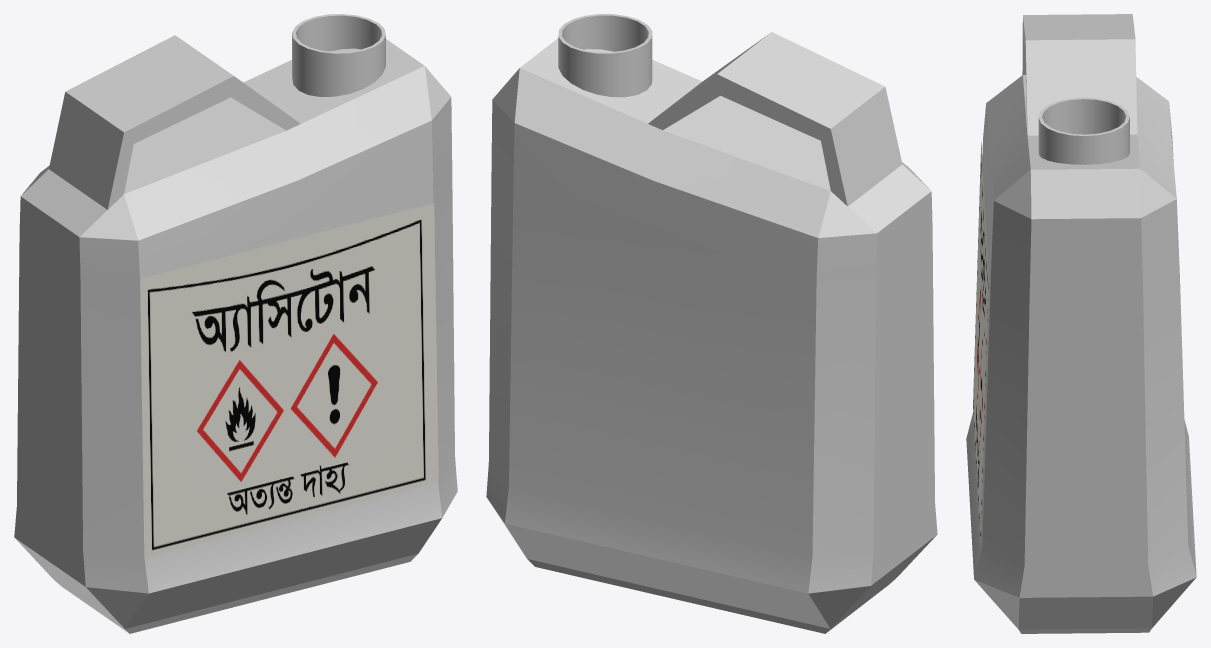
Rendered from Sc22_Acidbottle.glb.
The picture shows the model from 3 angles, left to right: view 1: azimuth 30°, elevation 25°; view 2: azimuth 150°, elevation 25°; view 3: azimuth 270°, elevation 25°; orthographic projection. The views are drawn at different scales.
Visible parts, largest first — view 1: Can.002; view 2: Can.002; view 3: Can.002.
Boxes of the visible parts, x1=… form: Can.002: x1=14, y1=14, x2=457, y2=633; Can.002: x1=486, y1=14, x2=937, y2=633; Can.002: x1=966, y1=14, x2=1196, y2=633.
Size of the model in its own units: 0.695 by 0.9211 by 0.3762.
Materials: 2 (1 with a texture image).
